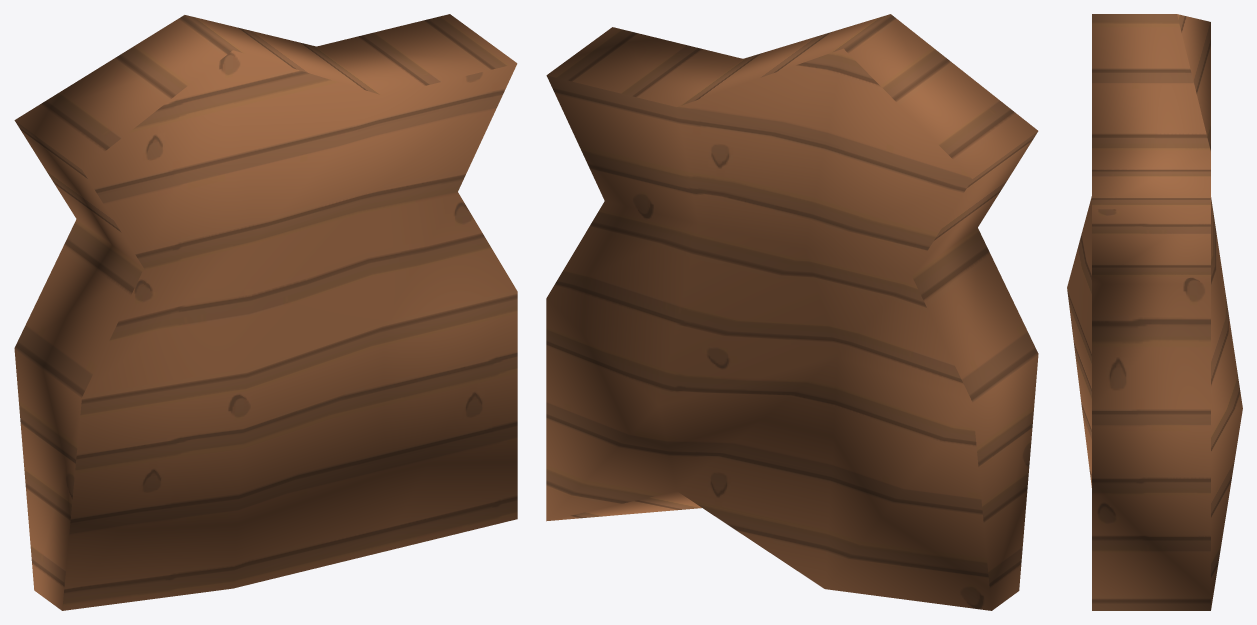
Rendered from item-bark-chip-plank.glb.
The picture shows the model from 3 angles, left to right: view 1: azimuth 30°, elevation 25°; view 2: azimuth 150°, elevation 25°; view 3: azimuth 270°, elevation 25°; orthographic projection. The views are drawn at different scales.
Bounding box in the file's own units: 2 × 2.36 × 0.7938.
1 material, 1 textured.
